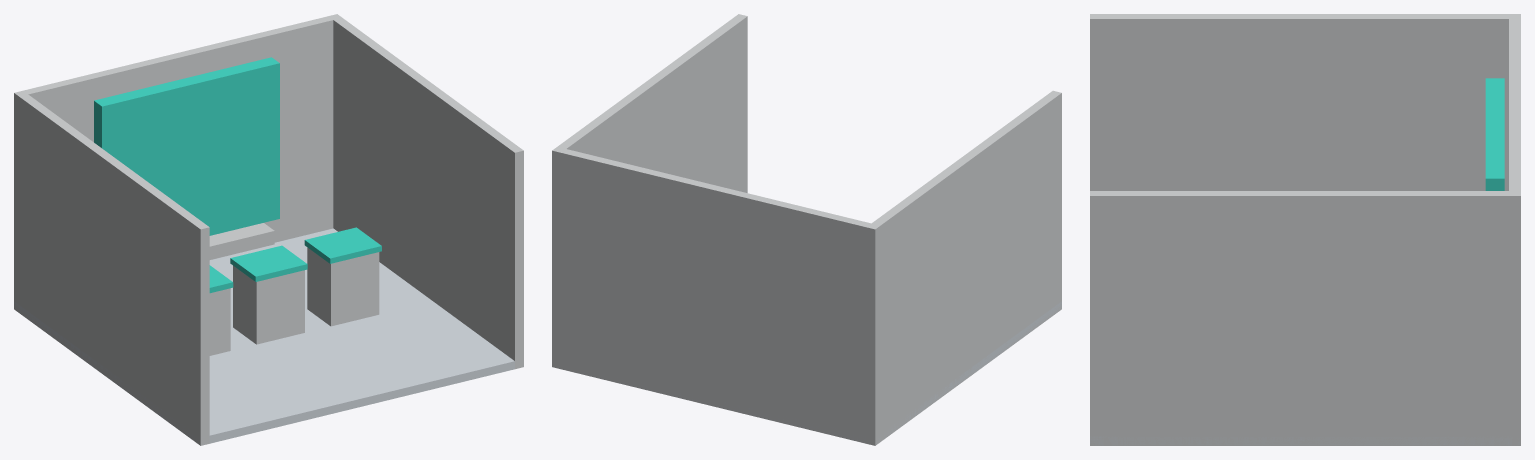
3 views of the same model, side by side, from view 1: azimuth 30°, elevation 25°; view 2: azimuth 150°, elevation 25°; view 3: azimuth 270°, elevation 25° (orthographic). The views are drawn at different scales.
Visible parts, largest first — view 1: Exhibition Booth Concept; view 2: Exhibition Booth Concept; view 3: Exhibition Booth Concept.
Boxes of the visible parts, x1,y1,x2,y2 form: Exhibition Booth Concept: (14, 14, 523, 445); Exhibition Booth Concept: (552, 14, 1061, 445); Exhibition Booth Concept: (1090, 14, 1520, 445).
Size of the model in its own units: 5 by 3.2 by 5.
